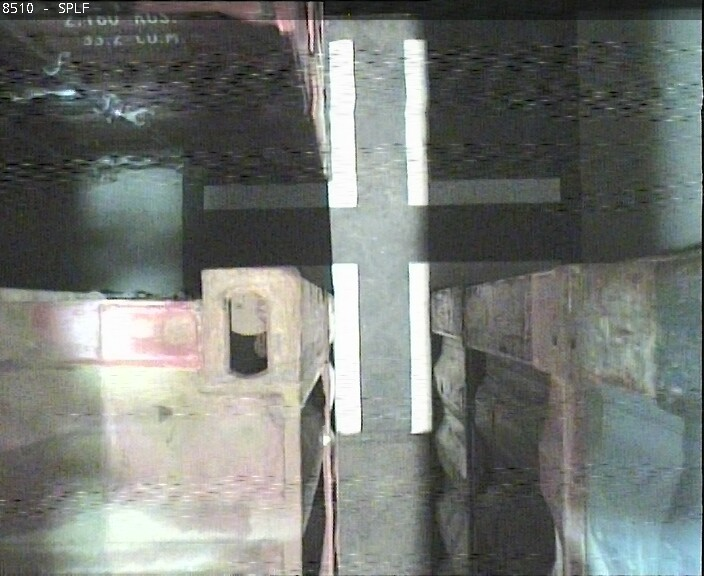groundmarker_1: (202, 37, 558, 210), (294, 263, 565, 432)
